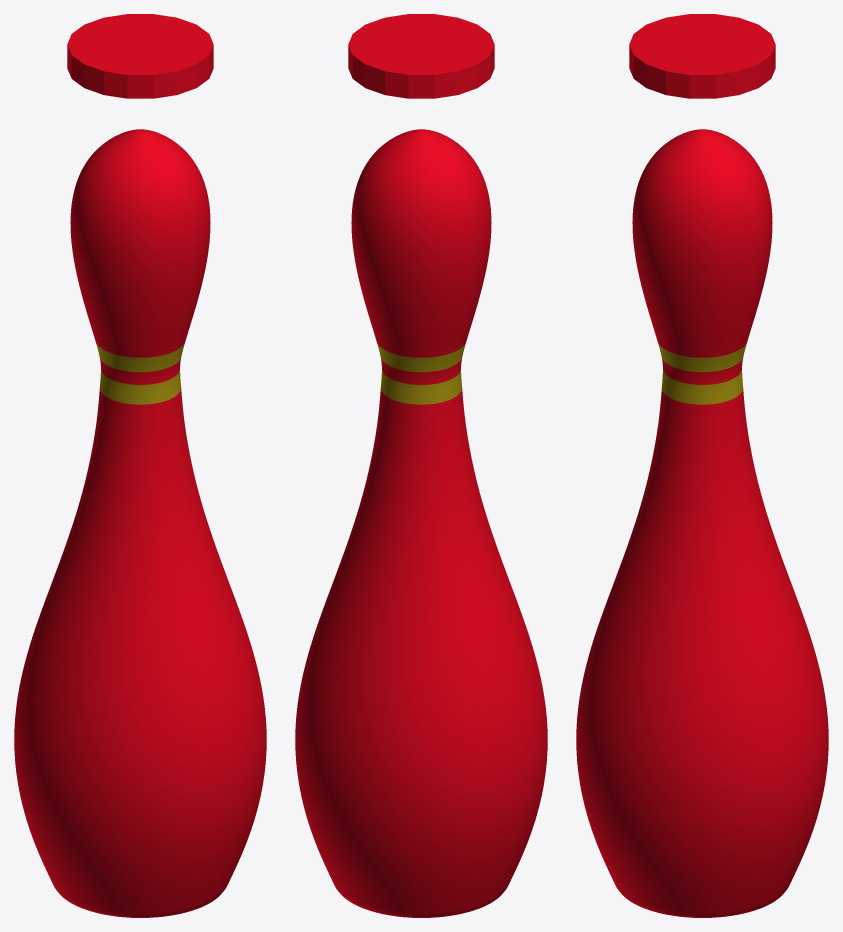
File: PIN1.fbx
3 renders of one model, left to right at view 1: azimuth 30°, elevation 25°; view 2: azimuth 150°, elevation 25°; view 3: azimuth 270°, elevation 25°, orthographic.
Parts seen in each view (by area): view 1: Pin1, PinCheck; view 2: Pin1, PinCheck; view 3: Pin1, PinCheck.
Boxes of the visible parts, x1,y1,x2,y2 form: Pin1: (14,129,266,917); PinCheck: (67,14,213,98); Pin1: (295,129,547,917); PinCheck: (348,14,494,98); Pin1: (576,129,828,917); PinCheck: (629,14,775,98).
Size of what is drawn, in the model's own units: 13.94 by 51.2 by 13.94.
